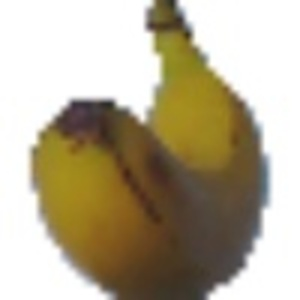banana: (29, 3, 269, 299)
